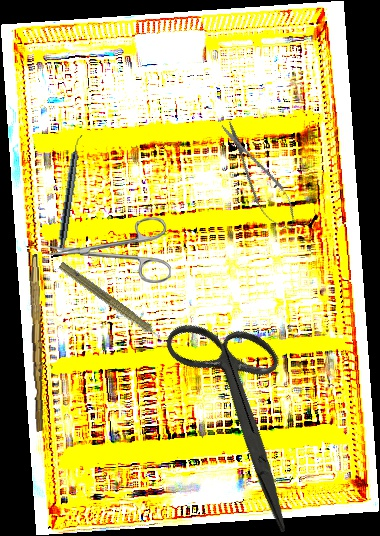Handpiece: (54, 259, 173, 351), (57, 133, 84, 250)
Iris Scissors: (115, 293, 369, 533), (46, 214, 172, 284)
Micro Scissor: (211, 114, 306, 239)
Scalpel Handle: (25, 254, 48, 432)
